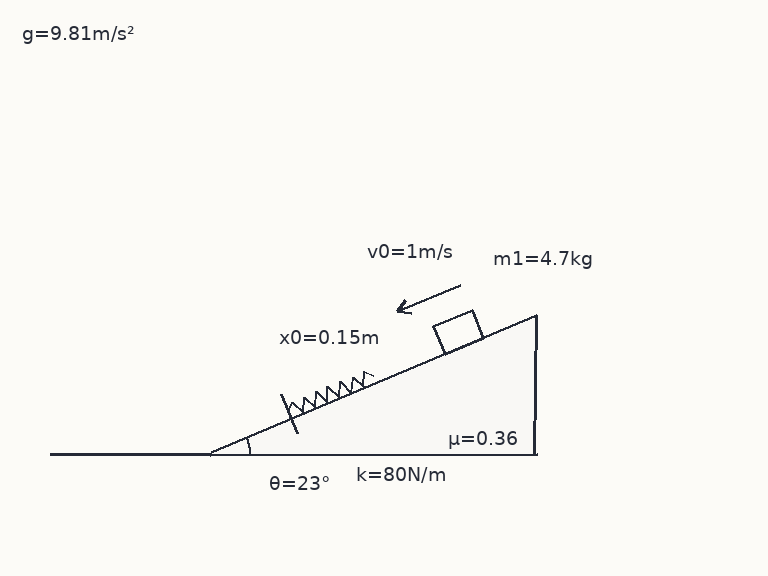block: (431, 308, 486, 356)
ramp: (208, 314, 538, 456)
spring: (286, 369, 375, 414)
